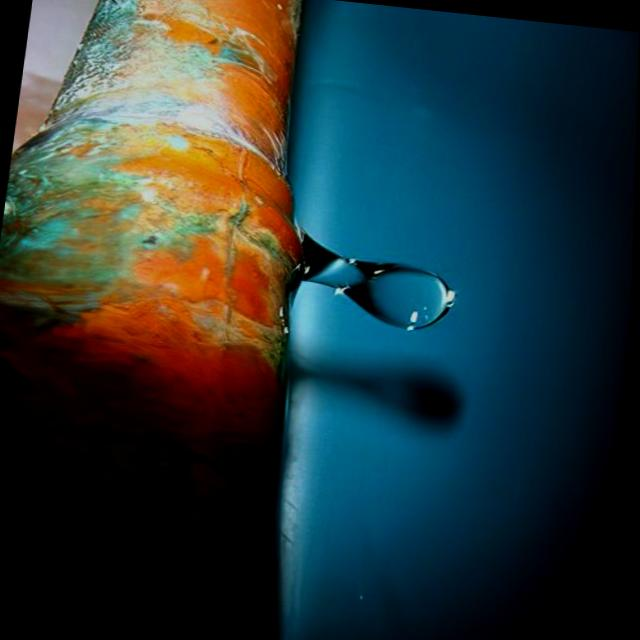leak: (282, 188, 472, 369)
